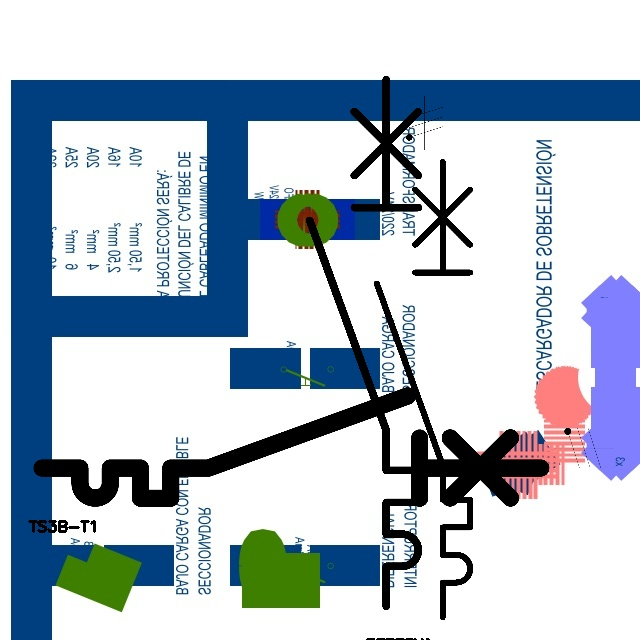interruptor_termomagnetico: (296, 66, 432, 620), (29, 383, 554, 511), (365, 150, 482, 629)
